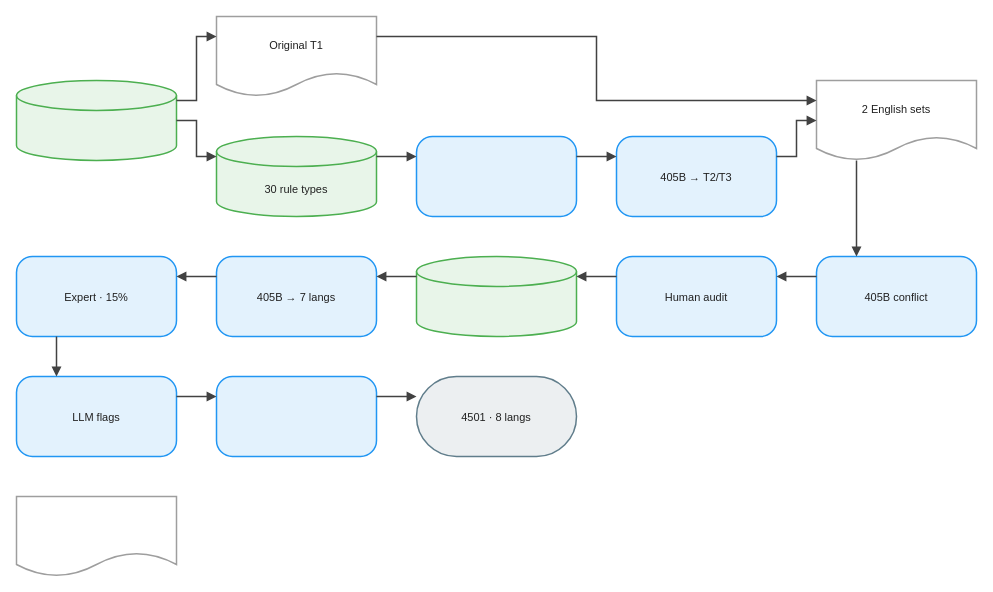
The diagram is 993 pixels wide and 592 high, and some of its shapes have lost their labels. The shapes that lost their labels are listed below. From the top down, each one's centre as x and y in pixels, then its label:
At (x=96, y=120): "IFEval English".
At (x=496, y=176): "1 type · T2/T3".
At (x=496, y=296): "English gold".
At (x=296, y=416): "Human removes".
At (x=96, y=536): "CSV 56 miss T3".
